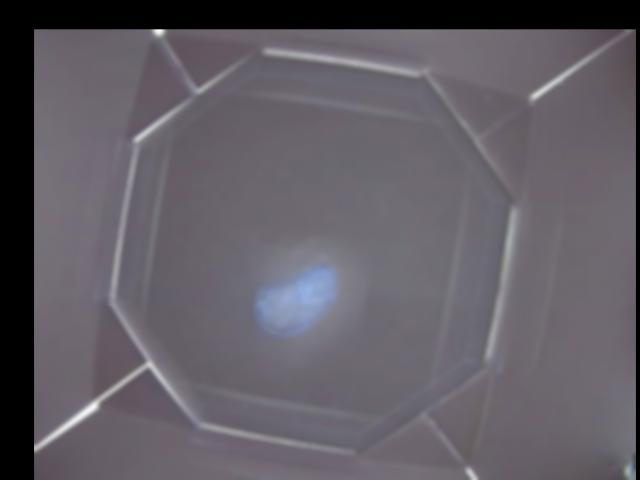Pebble: (250, 264, 334, 335)
